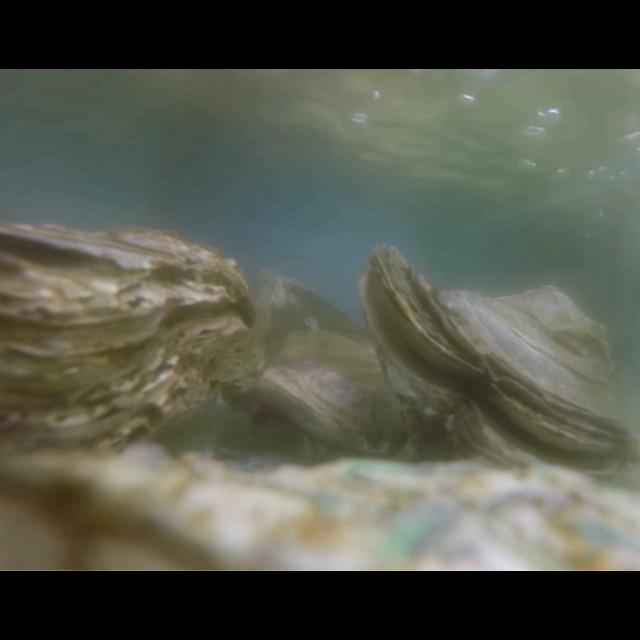Oyster-Closed: (0, 445, 640, 571), (0, 221, 256, 484), (256, 330, 420, 466)
Oyster-Open: (360, 244, 640, 488)
